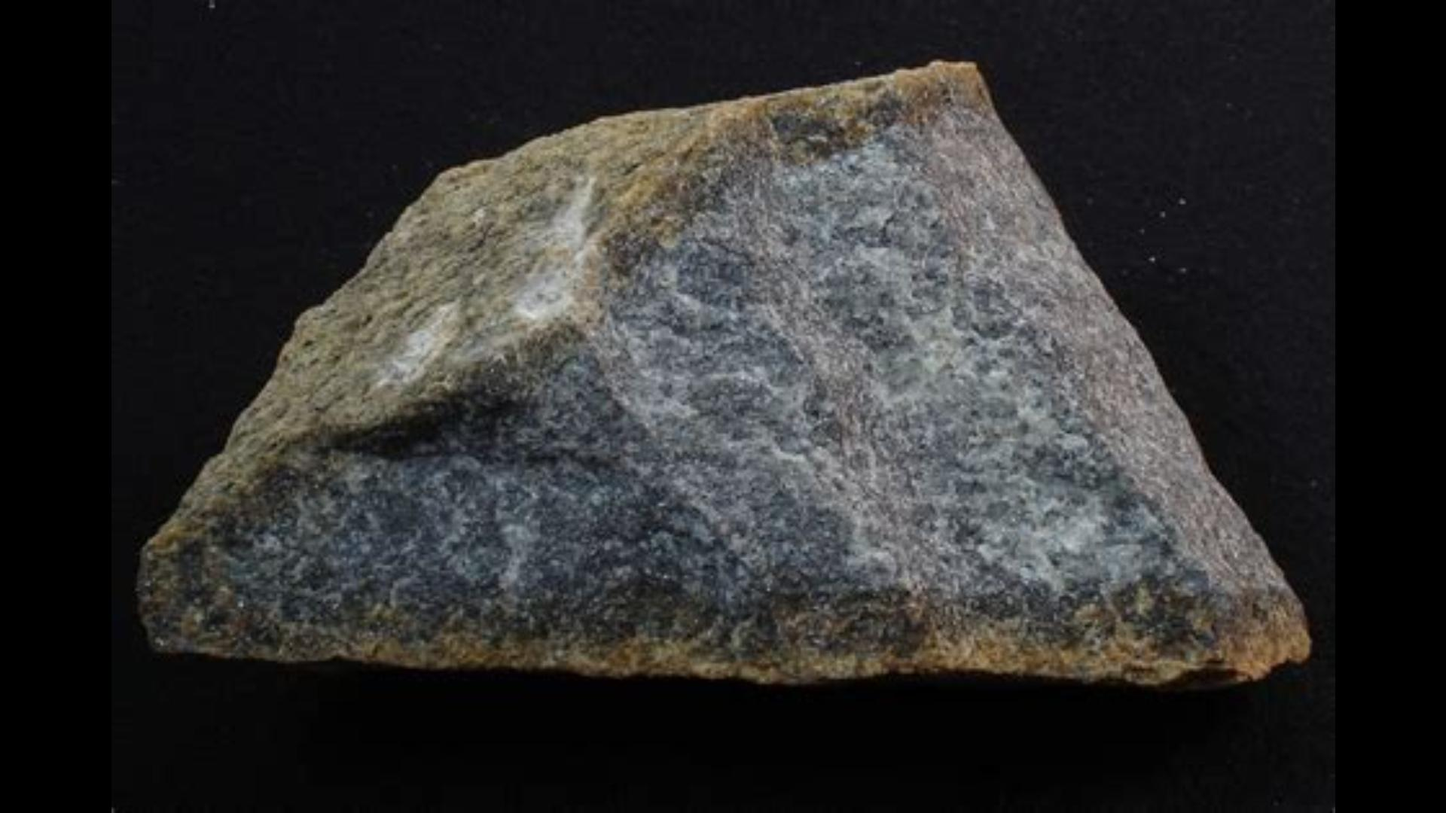rock: (139, 65, 1304, 684)
